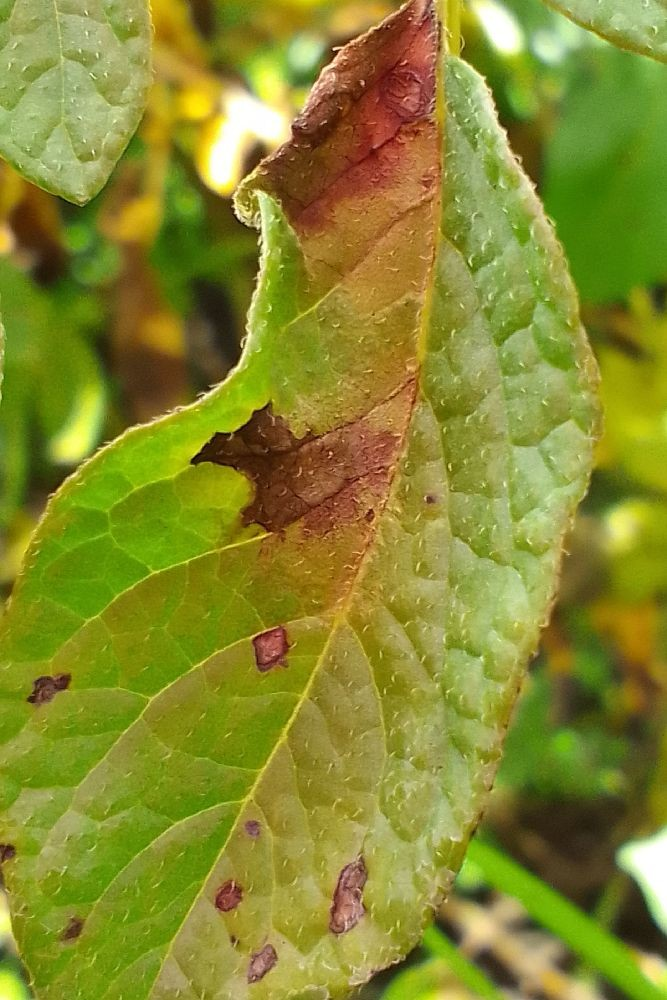late_blight: (396, 845, 652, 1000), (0, 323, 109, 655), (0, 140, 96, 310)
